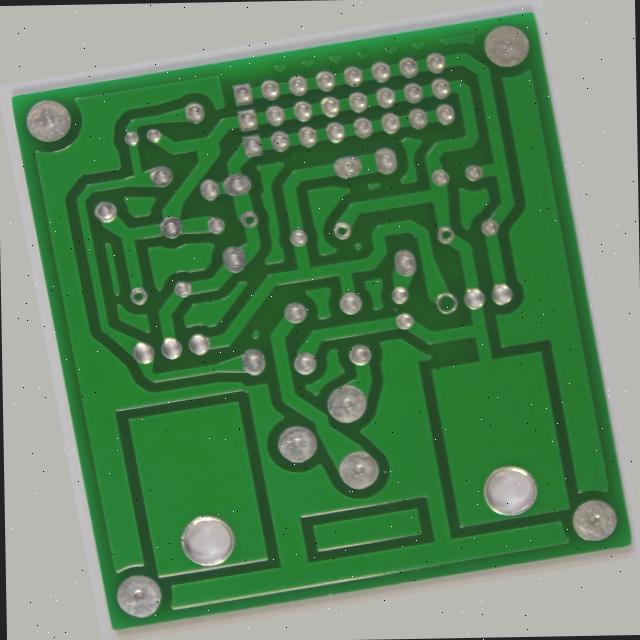missing_hole: (453, 306, 481, 335), (247, 185, 269, 207), (351, 214, 373, 235), (468, 235, 491, 254), (105, 254, 125, 272)
